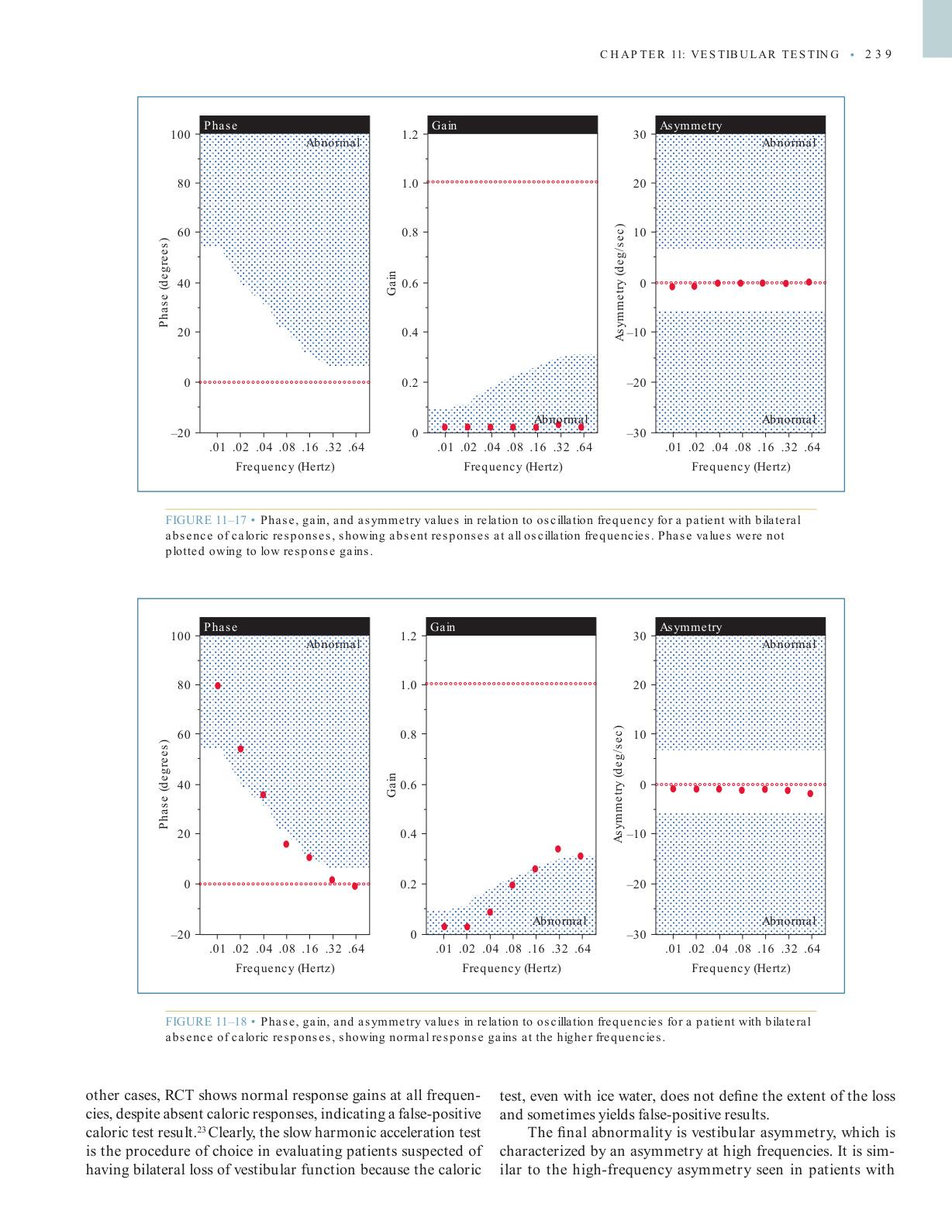caption: (162, 510, 805, 561), (163, 1013, 812, 1046)
header: (599, 48, 840, 59)
image: (145, 604, 838, 985), (147, 106, 838, 484)
text: (81, 1084, 485, 1179), (494, 1086, 899, 1180)
